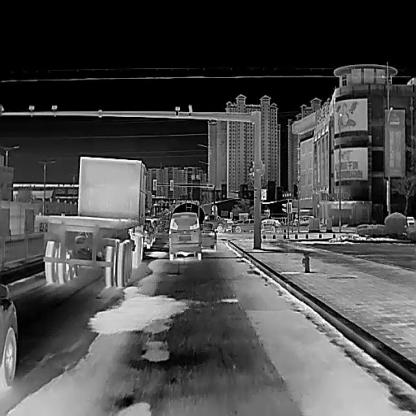car: (168, 211, 201, 259), (200, 222, 216, 250), (203, 214, 227, 232), (142, 217, 155, 249), (235, 219, 262, 230), (293, 216, 311, 226)
truck: (35, 155, 152, 286)
